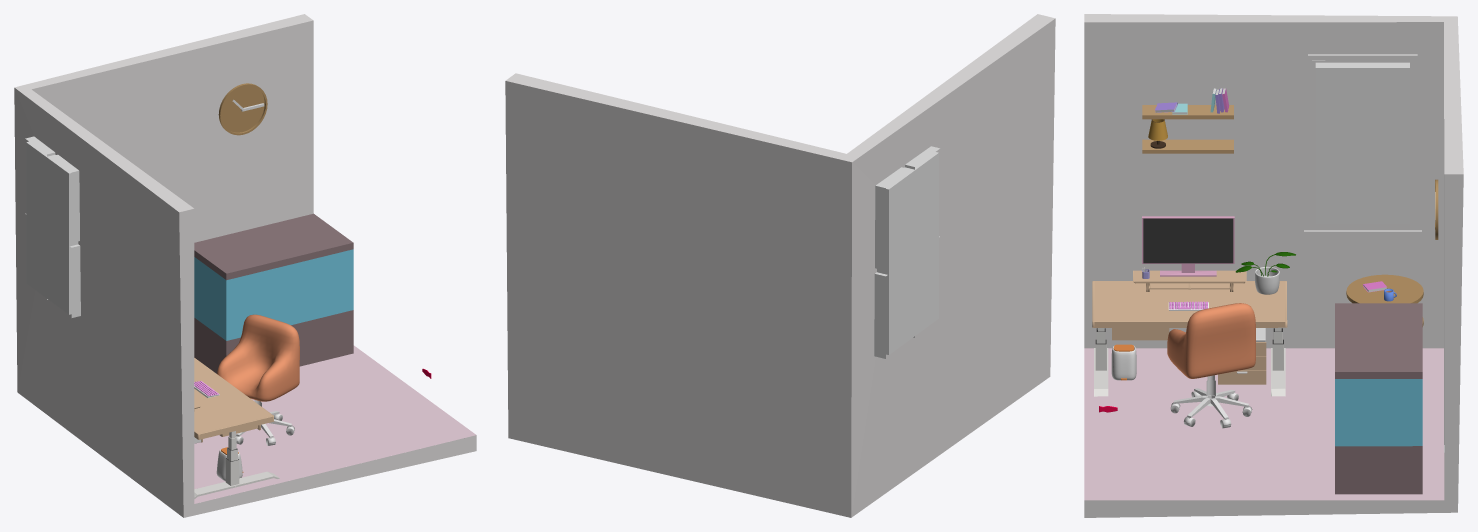
The model's file is final-room-done.glb.
3 renders of one model, left to right at view 1: azimuth 30°, elevation 25°; view 2: azimuth 150°, elevation 25°; view 3: azimuth 270°, elevation 25°, orthographic. The views are drawn at different scales.
Visible parts, largest first — view 1: Room, Cube.020, Cube.021, Cube.012, Cube.013, Table top, Cylinder.006, Plane, Table leg holder, Table leg; view 2: Room, Cube.012, Plane; view 3: Room, Cube.012, Cube.020, Table top, Cube.021, Cube.013, Screen, Table top holder, Cylinder.003, Cube.006, Cube.005, Monitor (+8 smaller).
Part boxes in pixels (bbox=[...]): Room: bbox=[14, 14, 476, 517]; Cube.020: bbox=[194, 213, 353, 373]; Cube.021: bbox=[194, 249, 353, 340]; Cube.012: bbox=[26, 141, 78, 314]; Cube.013: bbox=[217, 314, 299, 401]; Table top: bbox=[194, 358, 274, 439]; Cylinder.006: bbox=[218, 83, 267, 135]; Plane: bbox=[25, 136, 80, 317]; Table leg holder: bbox=[194, 471, 279, 498]; Table leg: bbox=[225, 431, 239, 485]; Room: bbox=[505, 14, 1055, 517]; Cube.012: bbox=[877, 152, 938, 354]; Plane: bbox=[874, 146, 939, 358]; Room: bbox=[1084, 14, 1463, 517]; Cube.012: bbox=[1315, 62, 1409, 223]; Cube.020: bbox=[1335, 303, 1422, 494]; Table top: bbox=[1092, 281, 1287, 327]; Cube.021: bbox=[1335, 379, 1422, 446]; Cube.013: bbox=[1167, 303, 1255, 378]; Screen: bbox=[1143, 218, 1233, 263]; Table top holder: bbox=[1133, 270, 1246, 291]; Cylinder.003: bbox=[1346, 274, 1423, 303]; Cube.006: bbox=[1142, 139, 1233, 153]; Cube.005: bbox=[1142, 105, 1233, 119]; Monitor: bbox=[1142, 216, 1234, 276].
Size of the model in its own units: 9.54 by 9.37 by 9.38.
